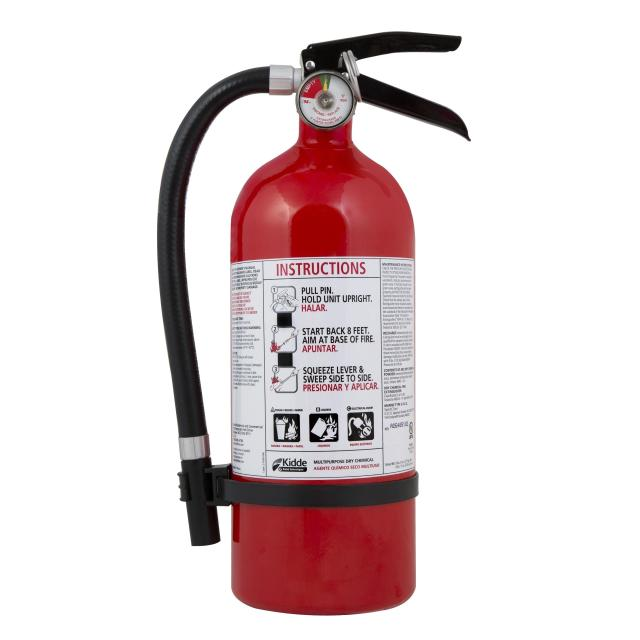fire_extinguisher: (145, 22, 479, 623)
